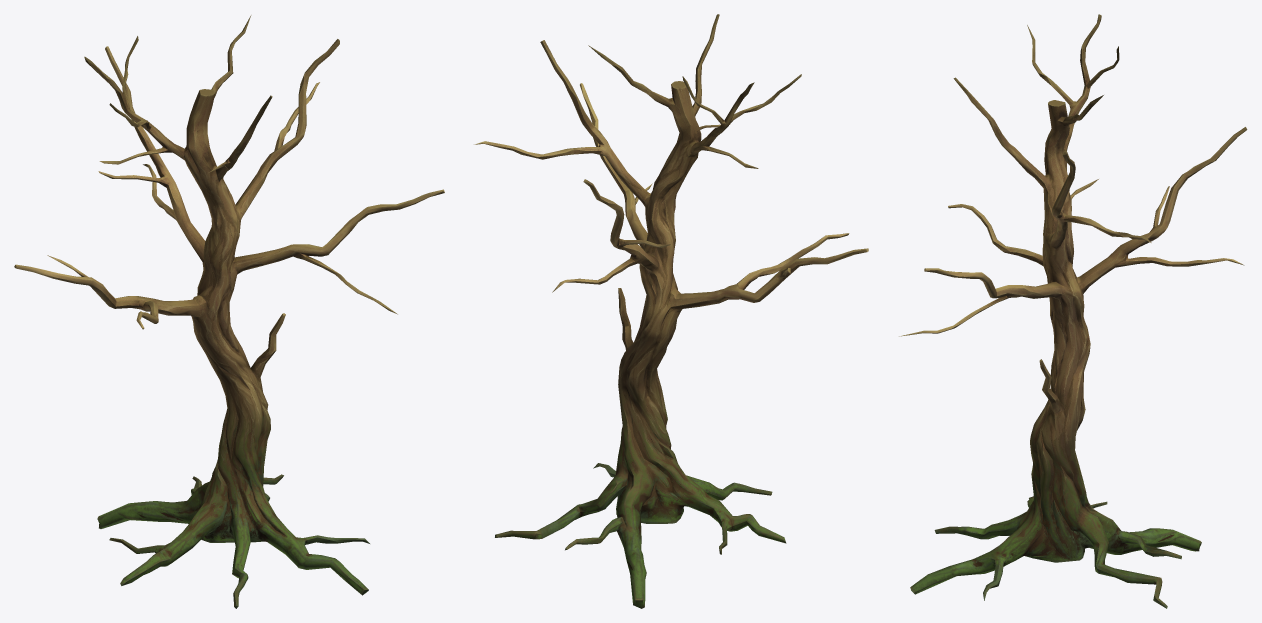
File: TraditionalKoreanHouse_TreeA02.fbx
The picture shows the model from 3 angles, left to right: view 1: azimuth 30°, elevation 25°; view 2: azimuth 150°, elevation 25°; view 3: azimuth 270°, elevation 25°; orthographic projection. The views are drawn at different scales.
Parts seen in each view (by area): view 1: TraditionalKoreanHouse_TreeA02; view 2: TraditionalKoreanHouse_TreeA02; view 3: TraditionalKoreanHouse_TreeA02.
Part boxes in pixels (<box>): TraditionalKoreanHouse_TreeA02: <box>14,15,444,608</box>; TraditionalKoreanHouse_TreeA02: <box>474,14,868,608</box>; TraditionalKoreanHouse_TreeA02: <box>899,14,1247,608</box>.
Bounding box in the file's own units: 542 × 747 × 468.
